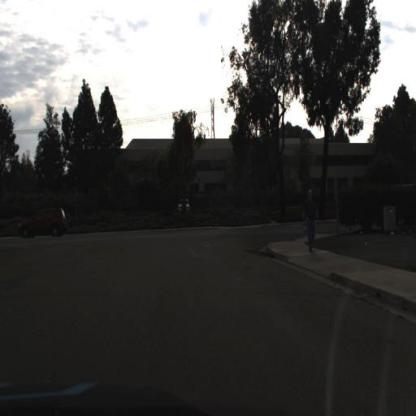car: (21, 202, 68, 240), (176, 196, 192, 220)
pedestrian: (302, 186, 319, 253)
